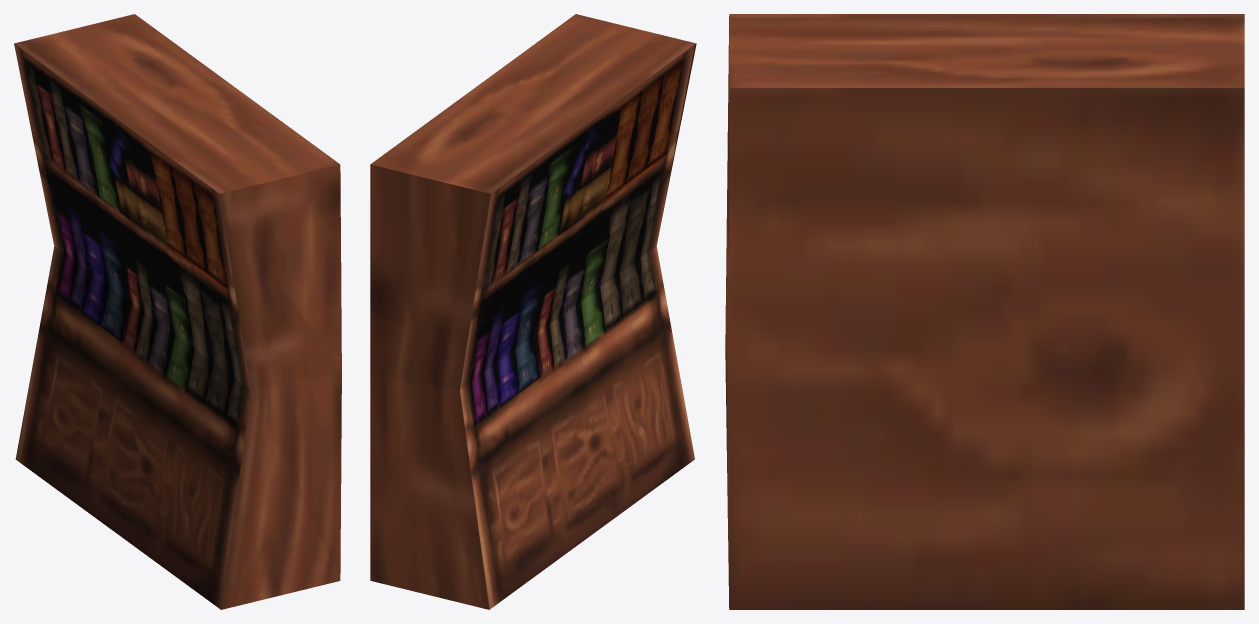
The model's file is BüroWarenSchrank [Dunkel]_1892.glb.
The picture shows the model from 3 angles, left to right: view 1: azimuth 30°, elevation 25°; view 2: azimuth 150°, elevation 25°; view 3: azimuth 270°, elevation 25°; orthographic projection. The views are drawn at different scales.
Parts seen in each view (by area): view 1: pPlaneShape3, pCubeShape76, pPlaneShape2; view 2: pPlaneShape3, pCubeShape77, pPlaneShape2; view 3: pPlaneShape1, pPlaneShape2, pCubeShape76.
Boxes of the visible parts, box(x1,y1,x2,y2) form: pPlaneShape3: box(14, 44, 250, 609); pCubeShape76: box(219, 164, 341, 609); pPlaneShape2: box(14, 14, 339, 193); pPlaneShape3: box(460, 45, 694, 609); pCubeShape77: box(370, 164, 490, 609); pPlaneShape2: box(370, 14, 696, 193); pPlaneShape1: box(729, 88, 1244, 609); pPlaneShape2: box(729, 14, 1244, 87); pCubeShape76: box(725, 16, 729, 607).
Size of the model in its own units: 0.0837 by 0.2756 by 0.2484.
5 materials, 5 textured.
